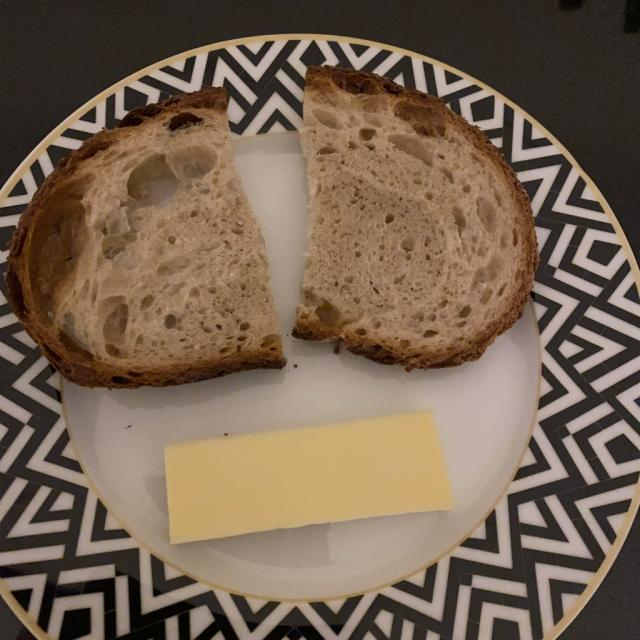bread-whole-wheat: (18, 66, 538, 365)
